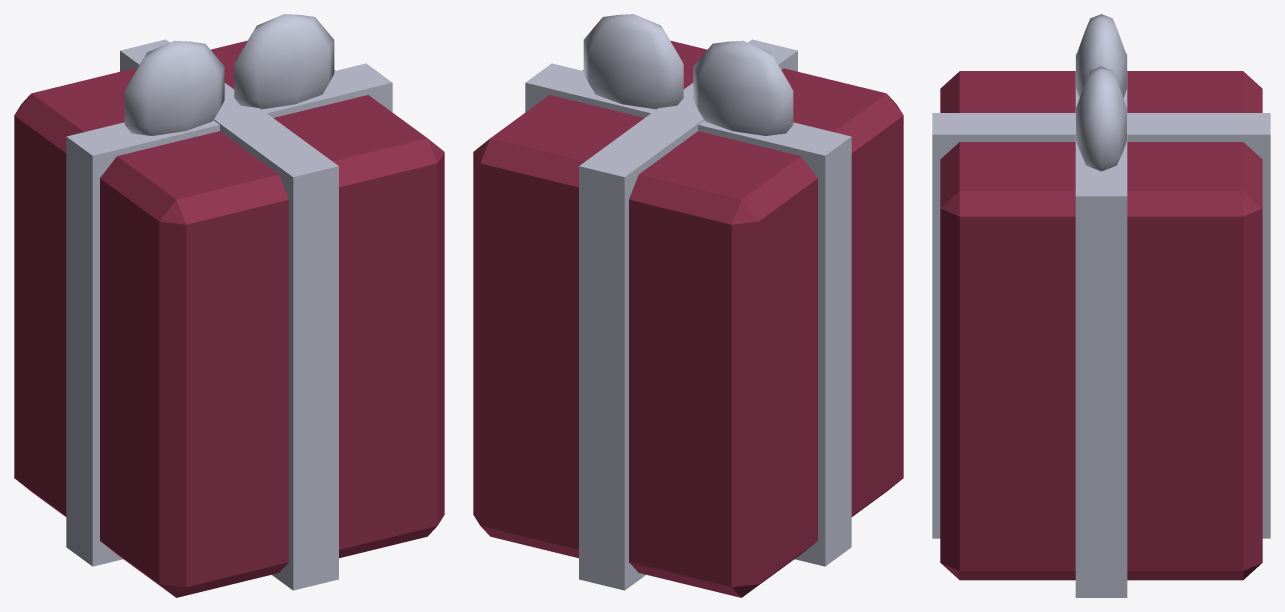
File: Intro_Present_A.fbx
3 renders of one model, left to right at view 1: azimuth 30°, elevation 25°; view 2: azimuth 150°, elevation 25°; view 3: azimuth 270°, elevation 25°, orthographic. The views are drawn at different scales.
Parts seen in each view (by area): view 1: Intro_Present_A; view 2: Intro_Present_A; view 3: Intro_Present_A.
Part boxes in pixels (bbox=[...]): Intro_Present_A: bbox=[14, 14, 444, 597]; Intro_Present_A: bbox=[473, 14, 903, 597]; Intro_Present_A: bbox=[932, 14, 1270, 597].
Bounding box in the file's own units: 2.52 × 3.97 × 2.52.
Materials: 1 (1 with a texture image).
